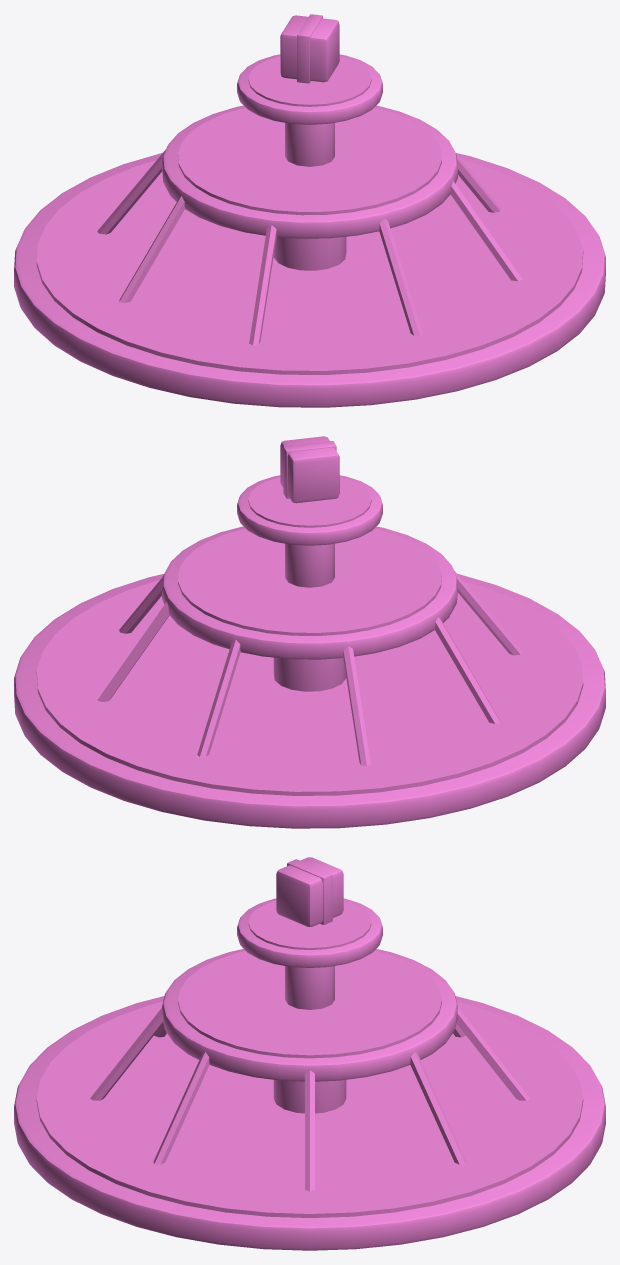
File: Hub_Fountain.fbx
3 views of the same model, one above another, from view 1: azimuth 30°, elevation 25°; view 2: azimuth 150°, elevation 25°; view 3: azimuth 270°, elevation 25° (orthographic).
Visible parts, largest first — view 1: Fountain; view 2: Fountain; view 3: Fountain.
Part boxes in pixels (left/top/right/bottom): Fountain: left=14, top=14, right=605, bottom=407; Fountain: left=14, top=436, right=605, bottom=828; Fountain: left=14, top=857, right=605, bottom=1250.
Size of the model in its own units: 26 by 12.55 by 26.
Materials: 1 (1 with a texture image).
